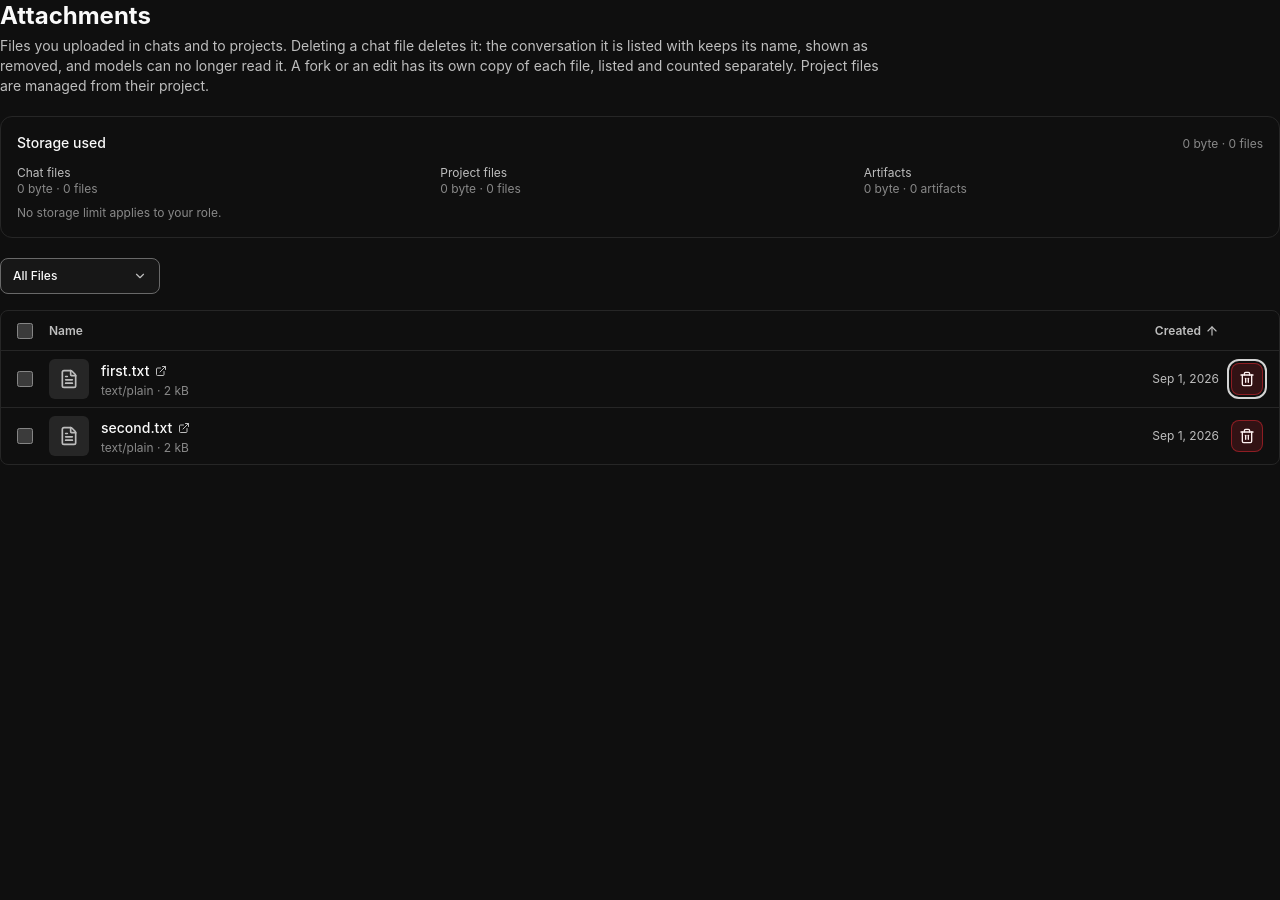
Test: deleting a row › moves focus to the next attachment after the confirmation closes
Click the button named "Delete first.txt" at (1247, 379), box [1231, 363, 1263, 395]
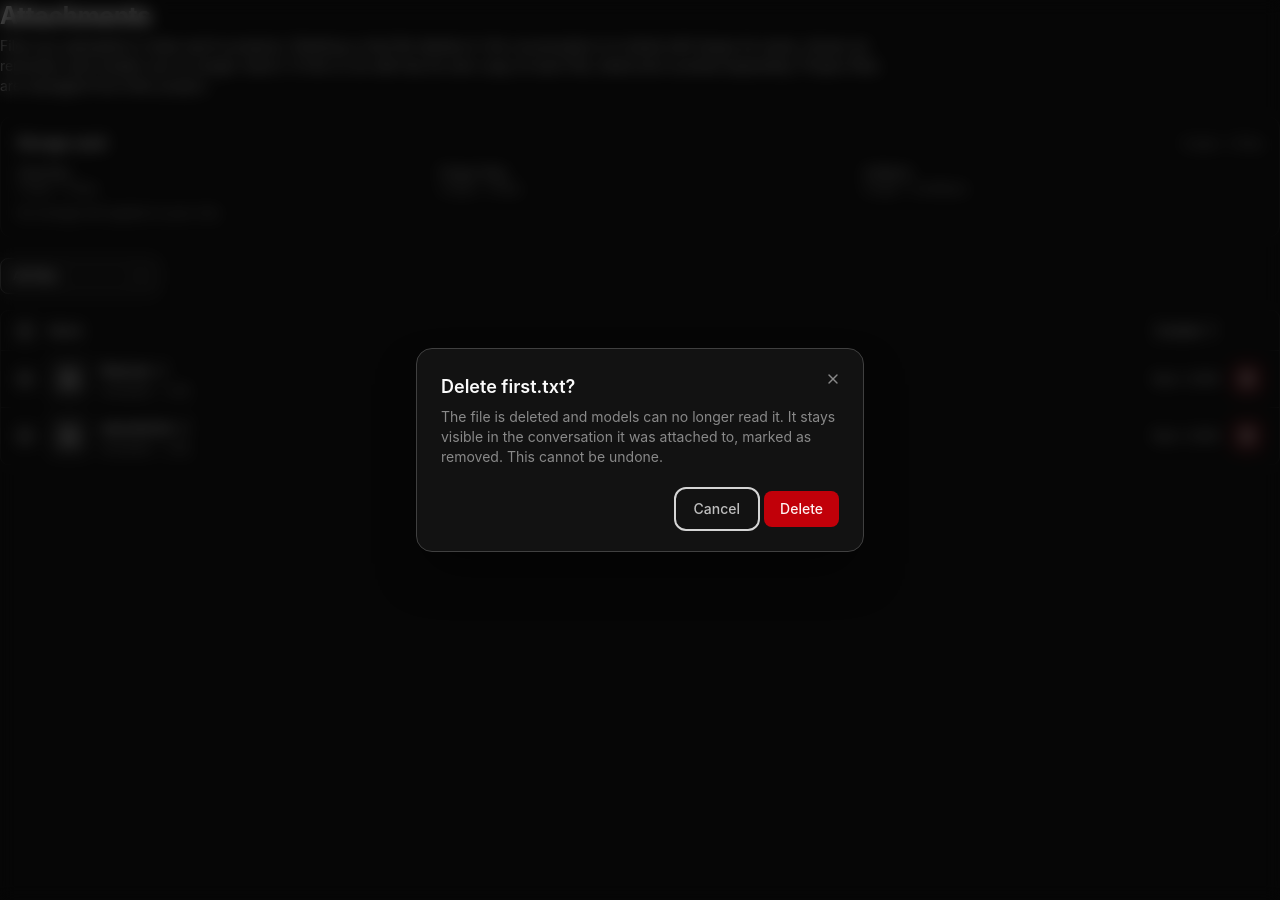
Check: the dialog shows "Delete first.txt?", box [416, 348, 864, 552]
Click the button "Delete" at (802, 509), box [764, 491, 839, 527]
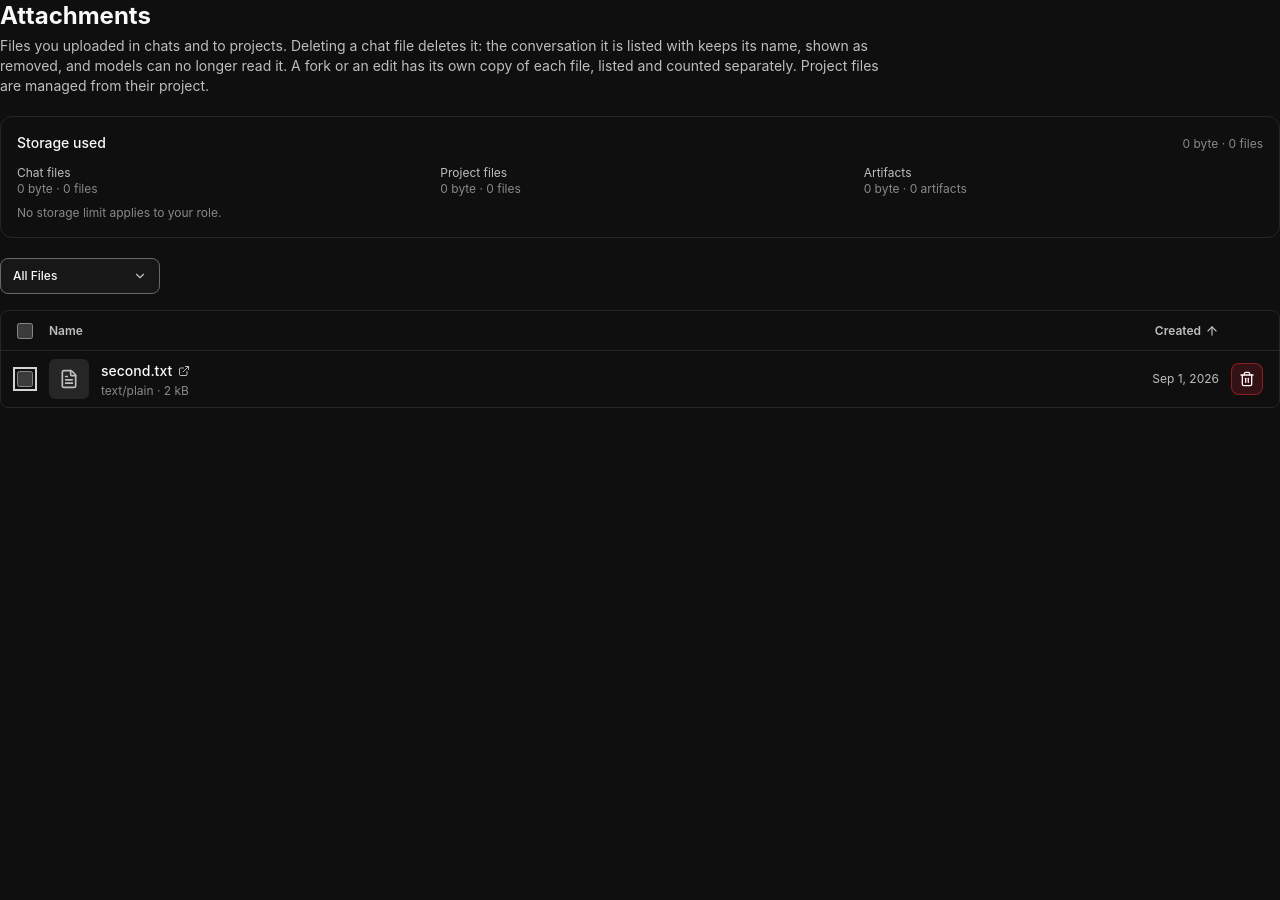
Check: the dialog is gone
Check: the text "first.txt" is gone
